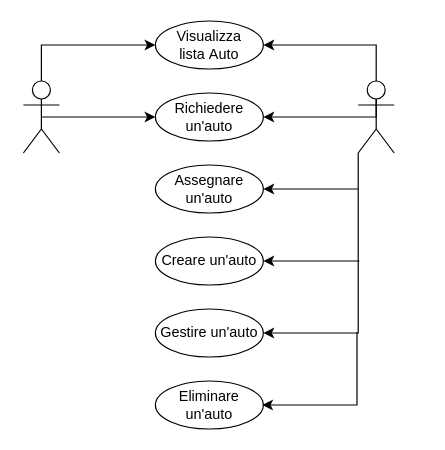
This 445x450 diagram has some shape labels left out. The centre of each missing label's shape, as x and y in pixels:
Amministratore: pixel 375 116
Utente: pixel 40 116
